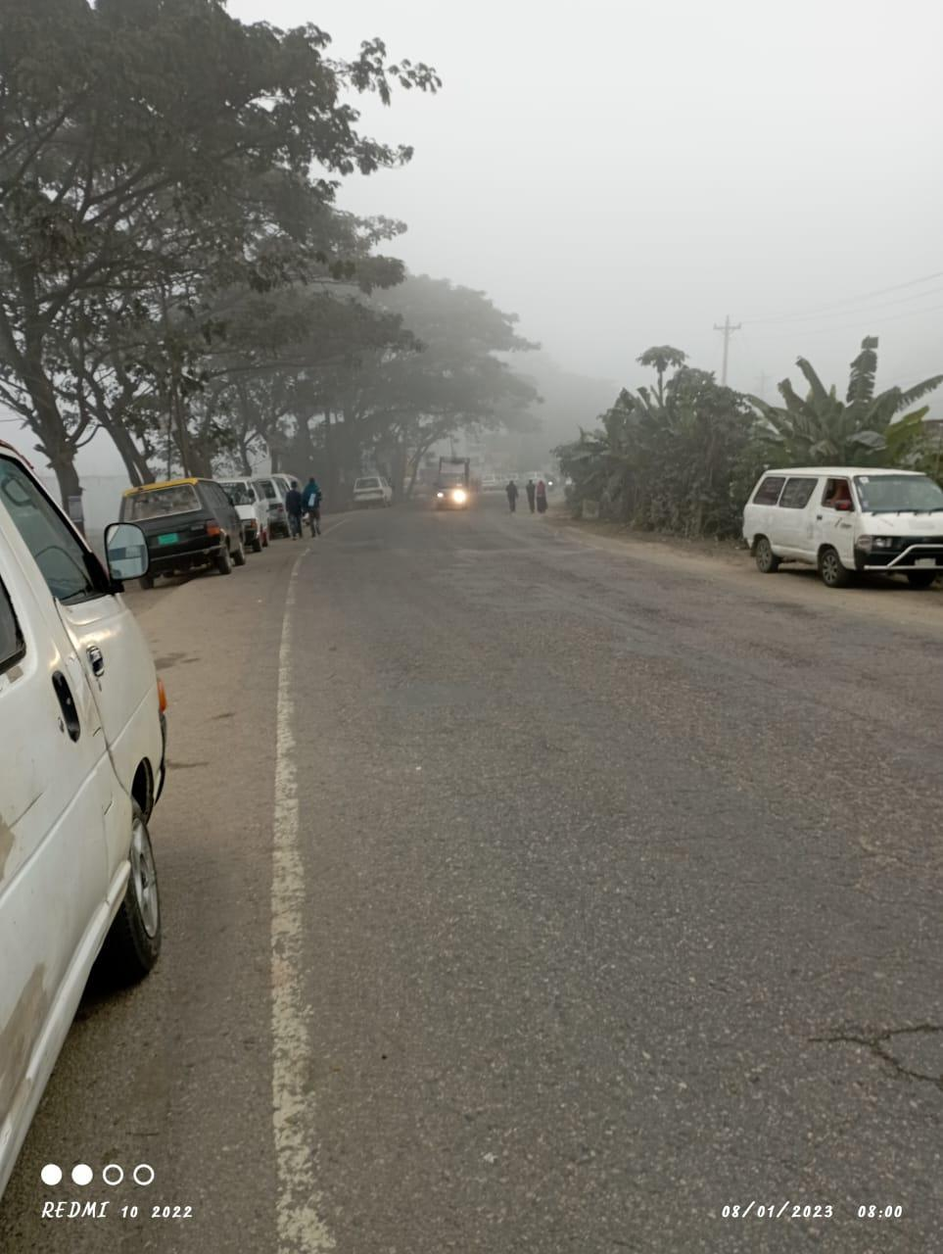Car: (2, 426, 178, 1121), (738, 454, 934, 588), (116, 475, 252, 569), (347, 471, 393, 512)
Truck: (420, 452, 474, 516)
